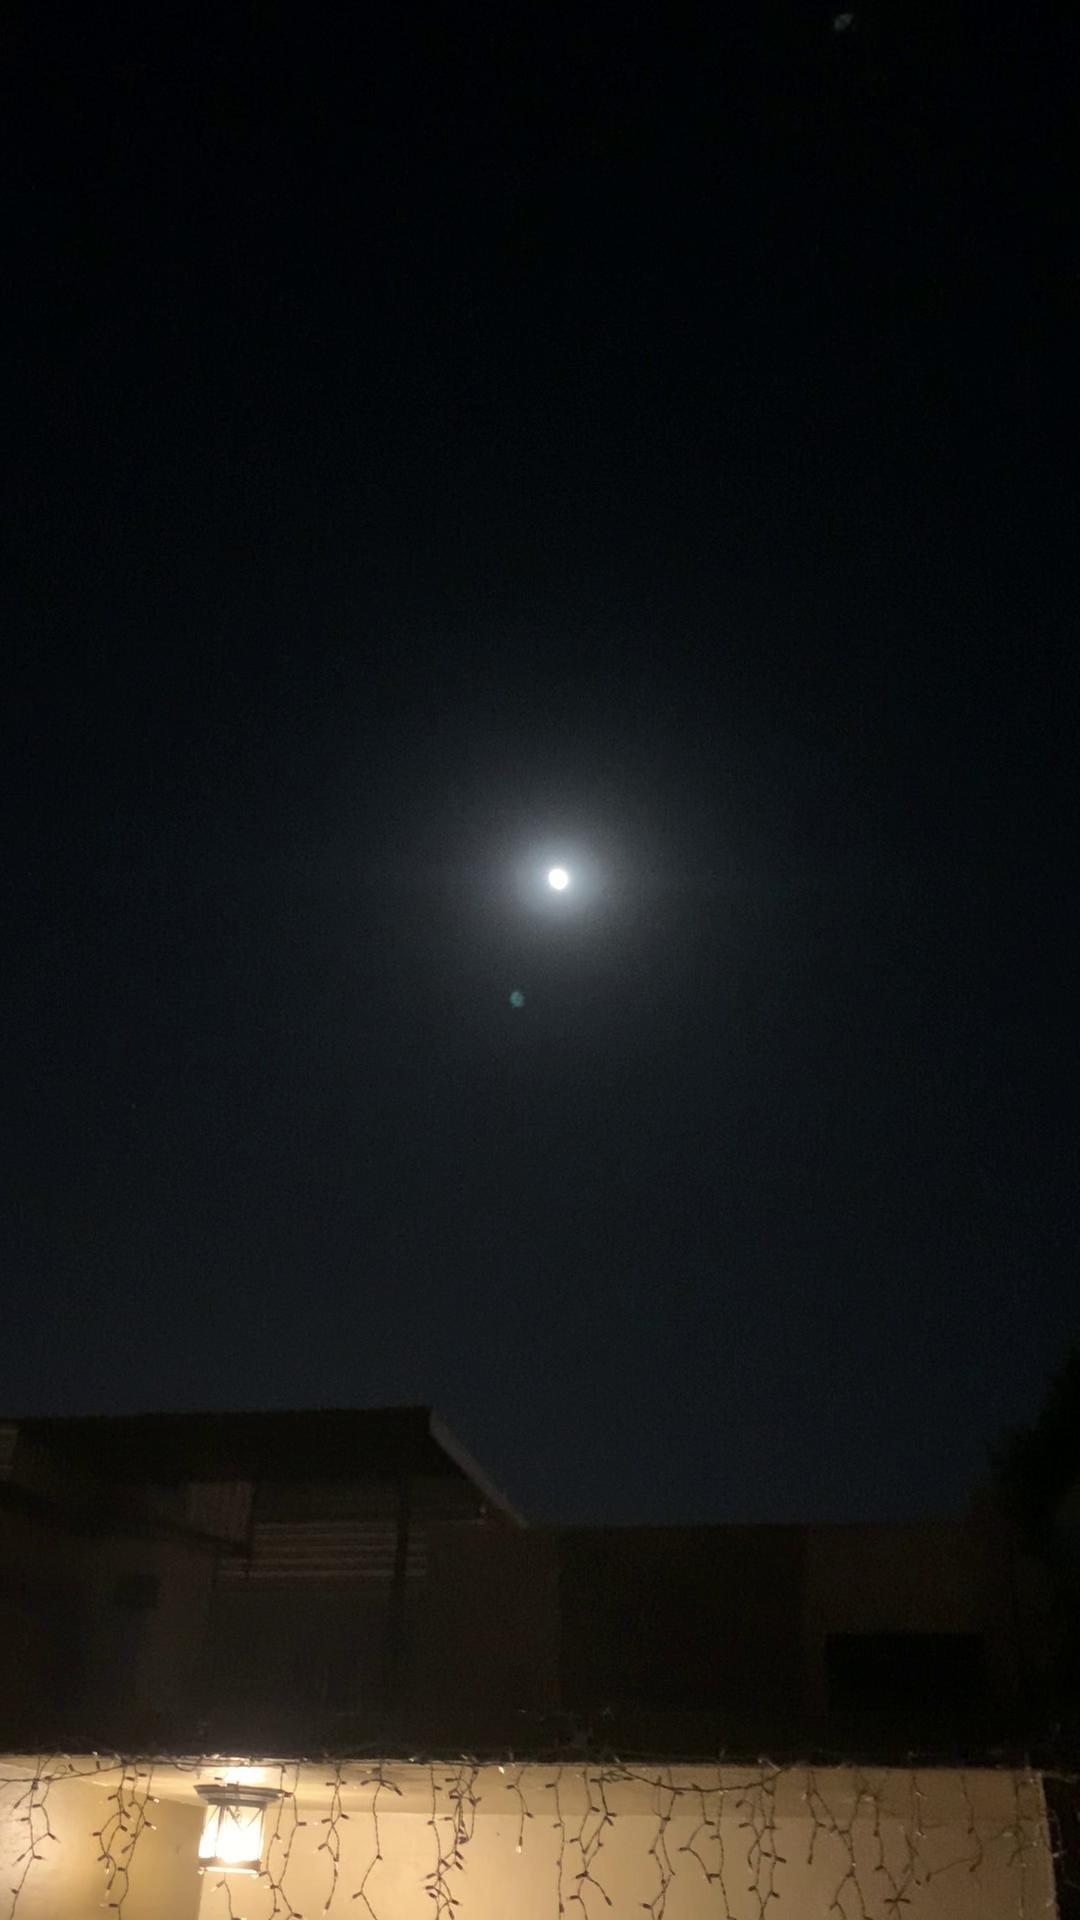moon: (516, 820, 603, 916)
